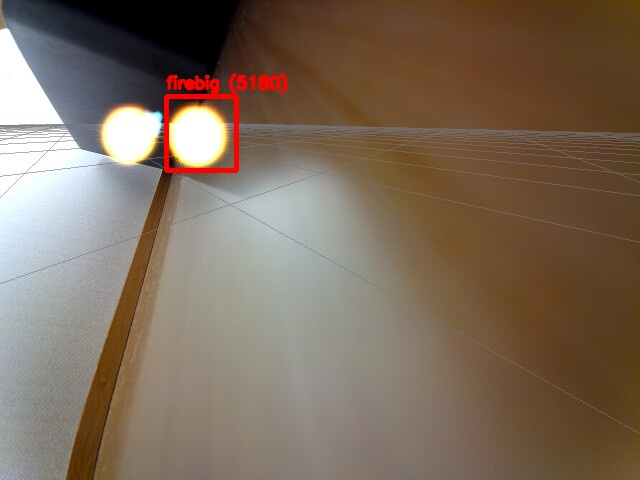firebig: (166, 96, 236, 170)
